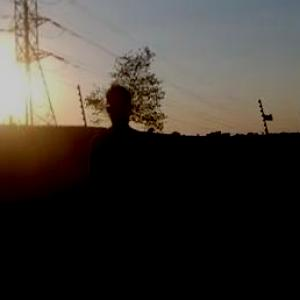follow: (84, 77, 165, 299)
